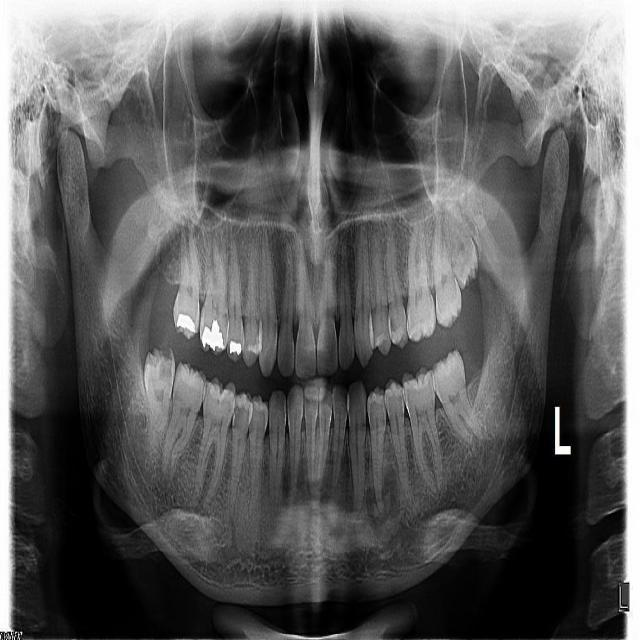NucleOSS Implant: (196, 319, 227, 354), (174, 311, 200, 334), (228, 341, 243, 357)
Sterngold Implant: (159, 354, 172, 384), (233, 402, 241, 424), (213, 396, 226, 409), (388, 316, 395, 333)
